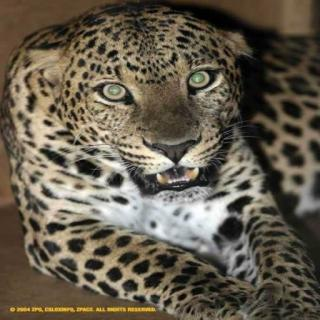Leopard: (6, 1, 320, 289)
